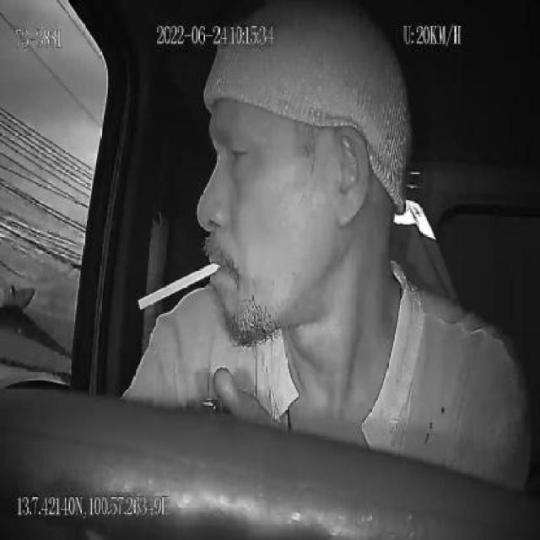smoking: (135, 262, 222, 312)
